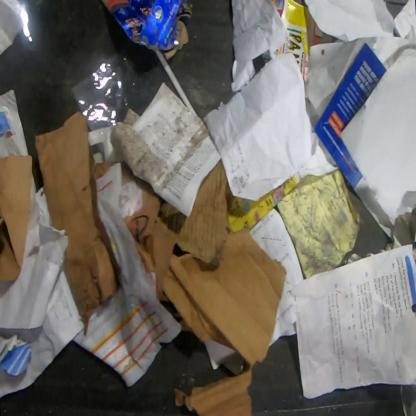cardboard: (163, 220, 287, 415), (34, 110, 120, 338), (122, 157, 233, 303), (100, 0, 193, 61), (0, 151, 33, 284)
soft_plastic: (0, 0, 151, 192)
